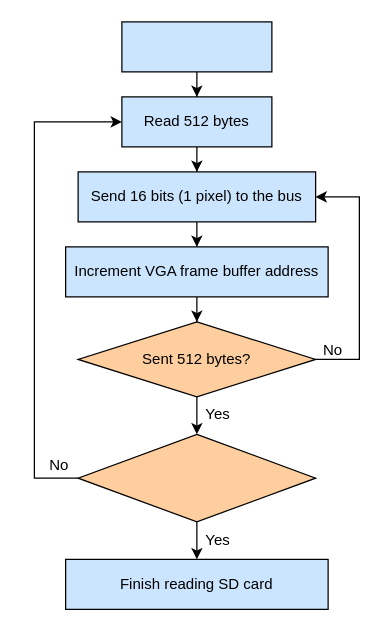
This 391x631 diagram has some shape labels left out. Here are the shapes that lost their labels. From the top down, the centre of each, then its label:
(x=196, y=46): Receive filename
(x=196, y=477): Bytes sent == Total bytes
